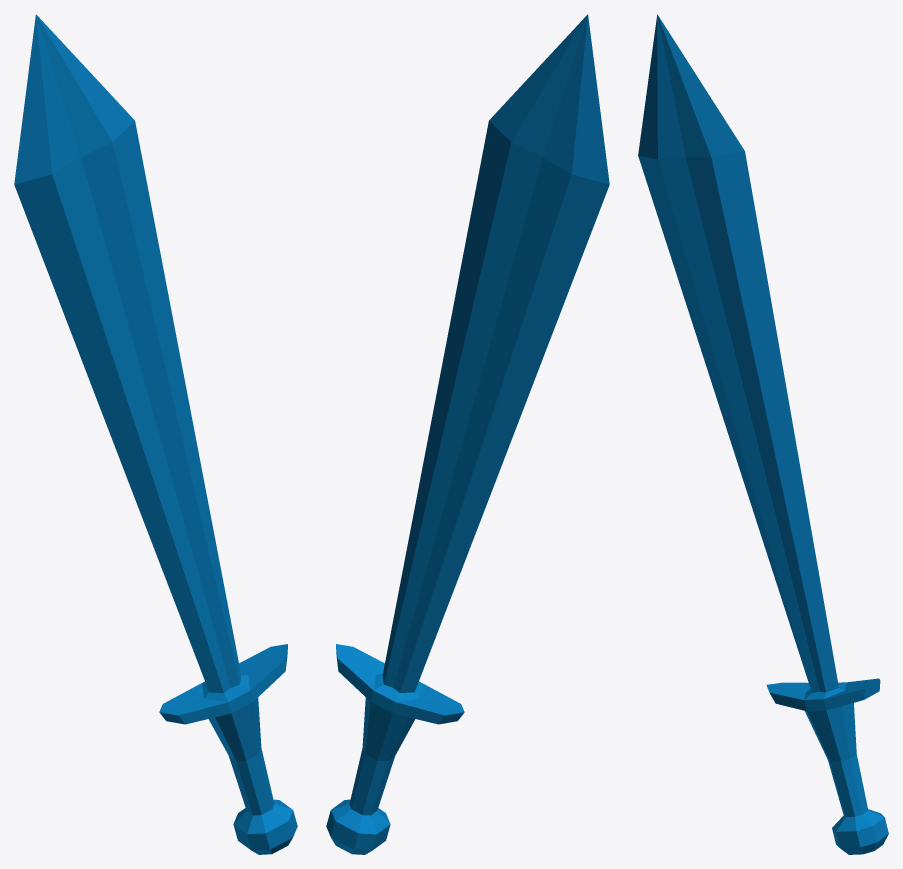
File: GlempSword.fbx
3 renders of one model, left to right at view 1: azimuth 30°, elevation 25°; view 2: azimuth 150°, elevation 25°; view 3: azimuth 330°, elevation 25°, orthographic. The views are drawn at different scales.
Parts seen in each view (by area): view 1: Sword; view 2: Sword; view 3: Sword.
Boxes of the visible parts, left/top/right/bottom form: Sword: left=14, top=14, right=297, bottom=854; Sword: left=326, top=14, right=609, bottom=854; Sword: left=638, top=14, right=888, bottom=854.
Bounding box in the file's own units: 0.5733 × 1.76 × 0.0989.
